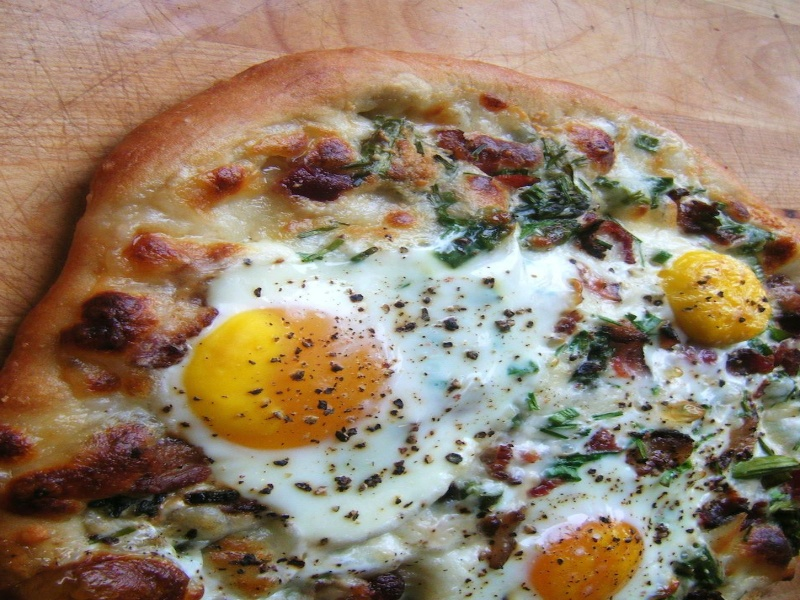oeuf: (175, 306, 421, 475), (657, 234, 780, 368), (504, 500, 646, 600)
